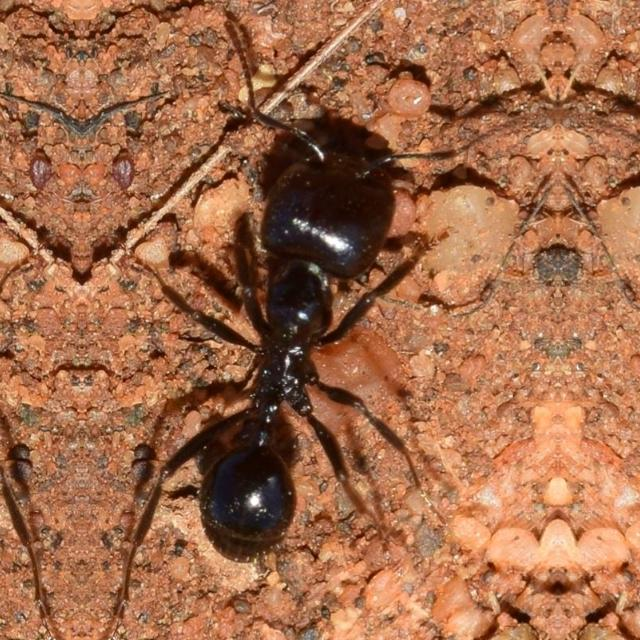Messor: (126, 92, 444, 578)
